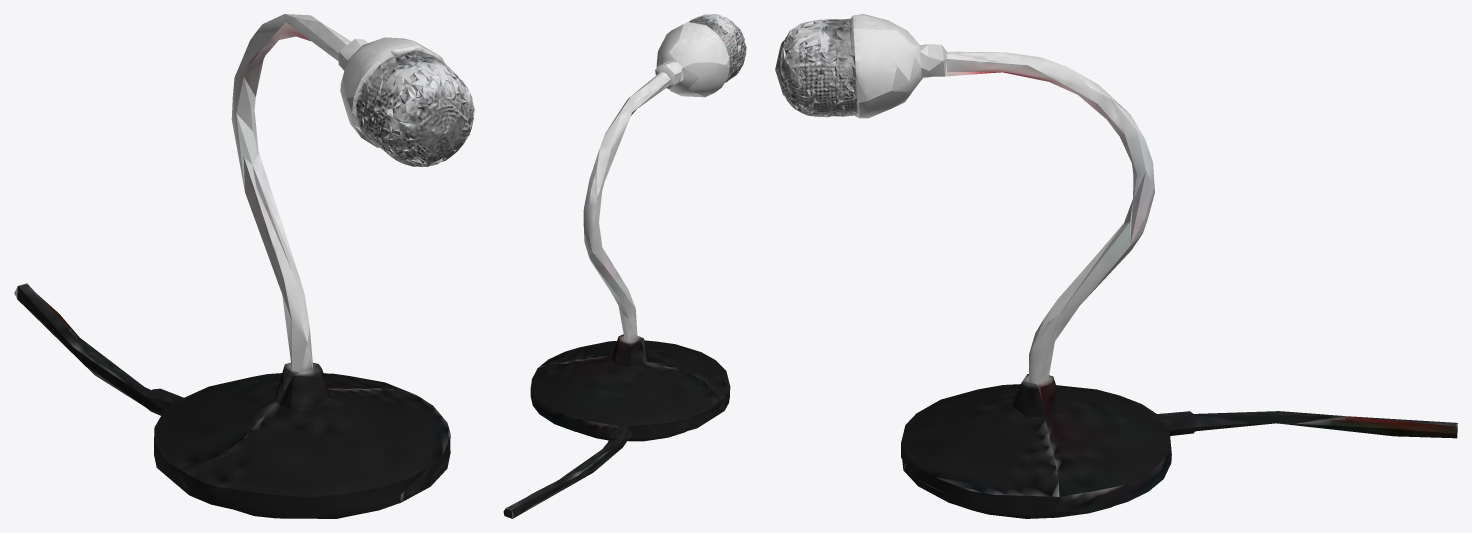
The model's file is addy_pa_microphone.glb.
3 views of the same model, side by side, from view 1: azimuth 30°, elevation 25°; view 2: azimuth 150°, elevation 25°; view 3: azimuth 270°, elevation 25° (orthographic). The views are drawn at different scales.
Size of the model in its own units: 0.7511 by 1.39 by 1.9.
Materials: 1 (1 with a texture image).
